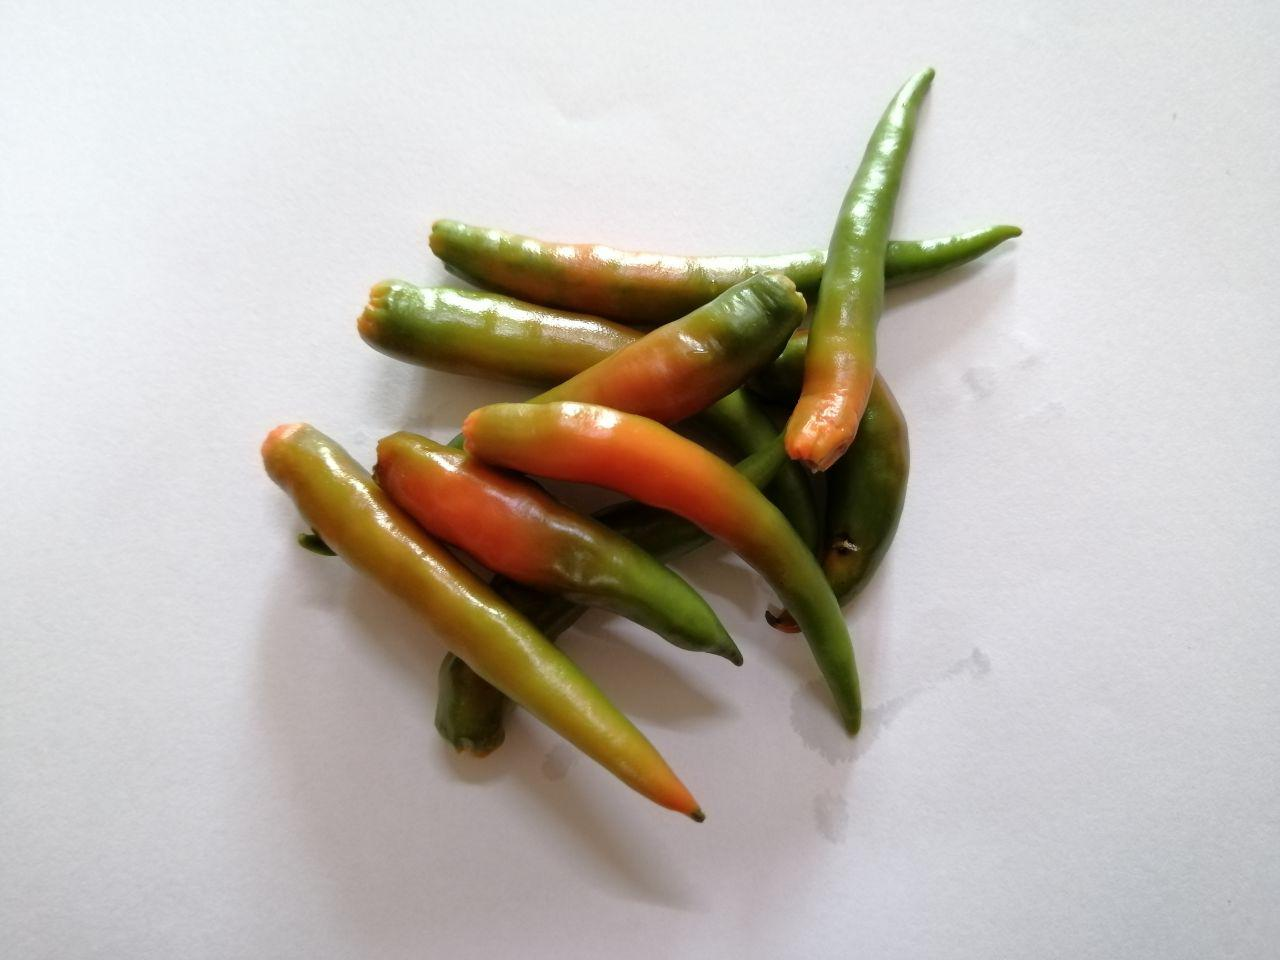lada hijau: (785, 55, 946, 481)
lada kuning: (247, 414, 725, 843), (456, 400, 888, 747), (360, 424, 752, 675), (412, 214, 1059, 324)
